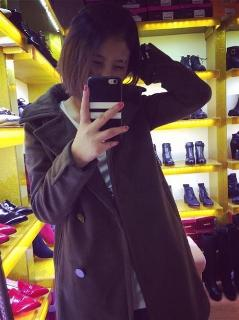long sleeve outwear: (18, 42, 213, 319)
